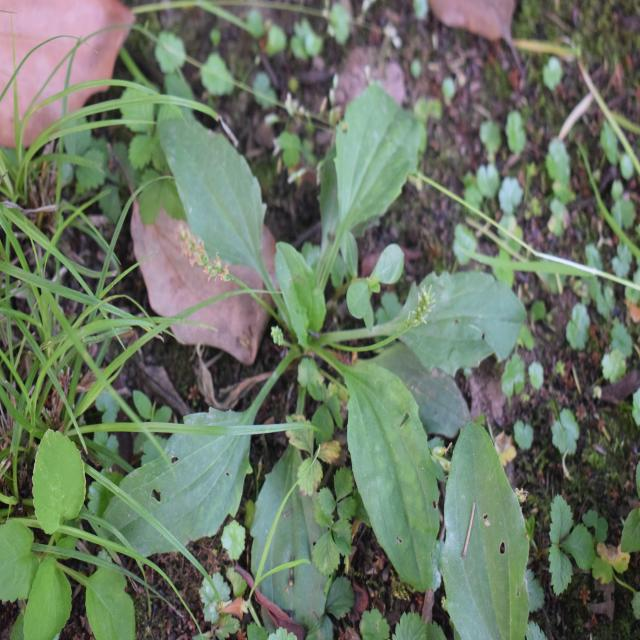plantain: (135, 86, 514, 577)
